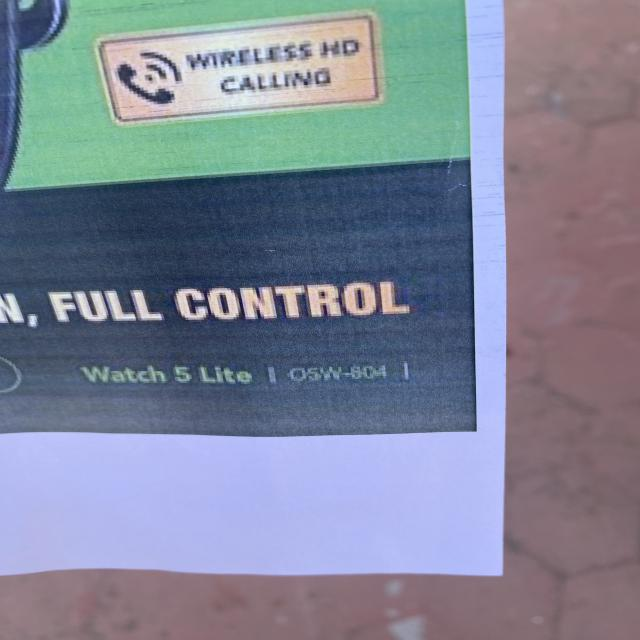Watch 5 Lite OSW-804: (73, 355, 436, 390)
